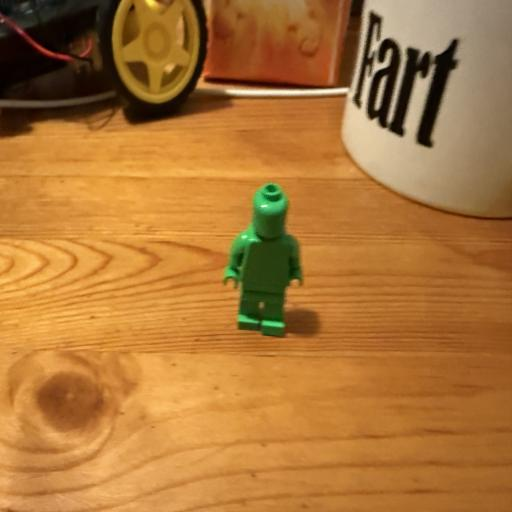Minifig: (225, 184, 302, 335)
